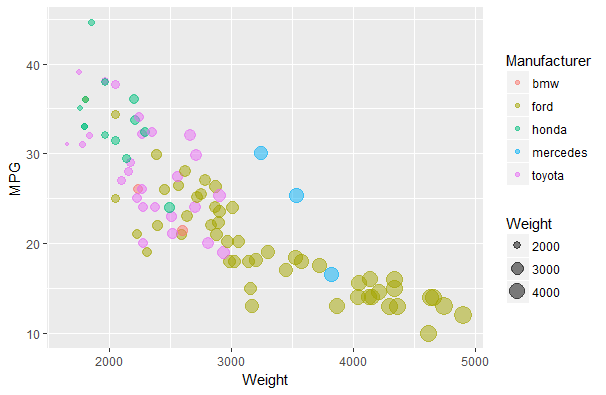

Layout of this report page (visuals, bound fields, positions):
{"tool":"tableau","page":{"name":"Dashboard 1","canvas":[1000,800],"ordinal":0},"visuals":[{"type":"worksheet","title":"Sheet 1","mark":"Circle","rows":["MPG"],"cols":["Weight"],"box":[0,0,840,800]},{"type":"legend","title":"Sheet 1","param":"[textscan.14h8h6g1ua10101g5851s1sy8clt].[none:Manufacturer:nk]","box":[840,0,160,134]},{"type":"legend","title":"Sheet 1","param":"[textscan.14h8h6g1ua10101g5851s1sy8clt].[none:Weight:qk]","box":[840,134,160,110]}]}

Visuals, with their boxes on the page's 1000x800 design canvas (x1, y1, x2, y2). These are canvas units, not pixel positions in the 606x395 screenshot, which may show the page scaled, cropped or inside an application window:
"Sheet 1" worksheet (Circle marks): crop(0, 0, 840, 800)
"Sheet 1" legend: crop(840, 0, 1000, 134)
"Sheet 1" legend: crop(840, 134, 1000, 244)
